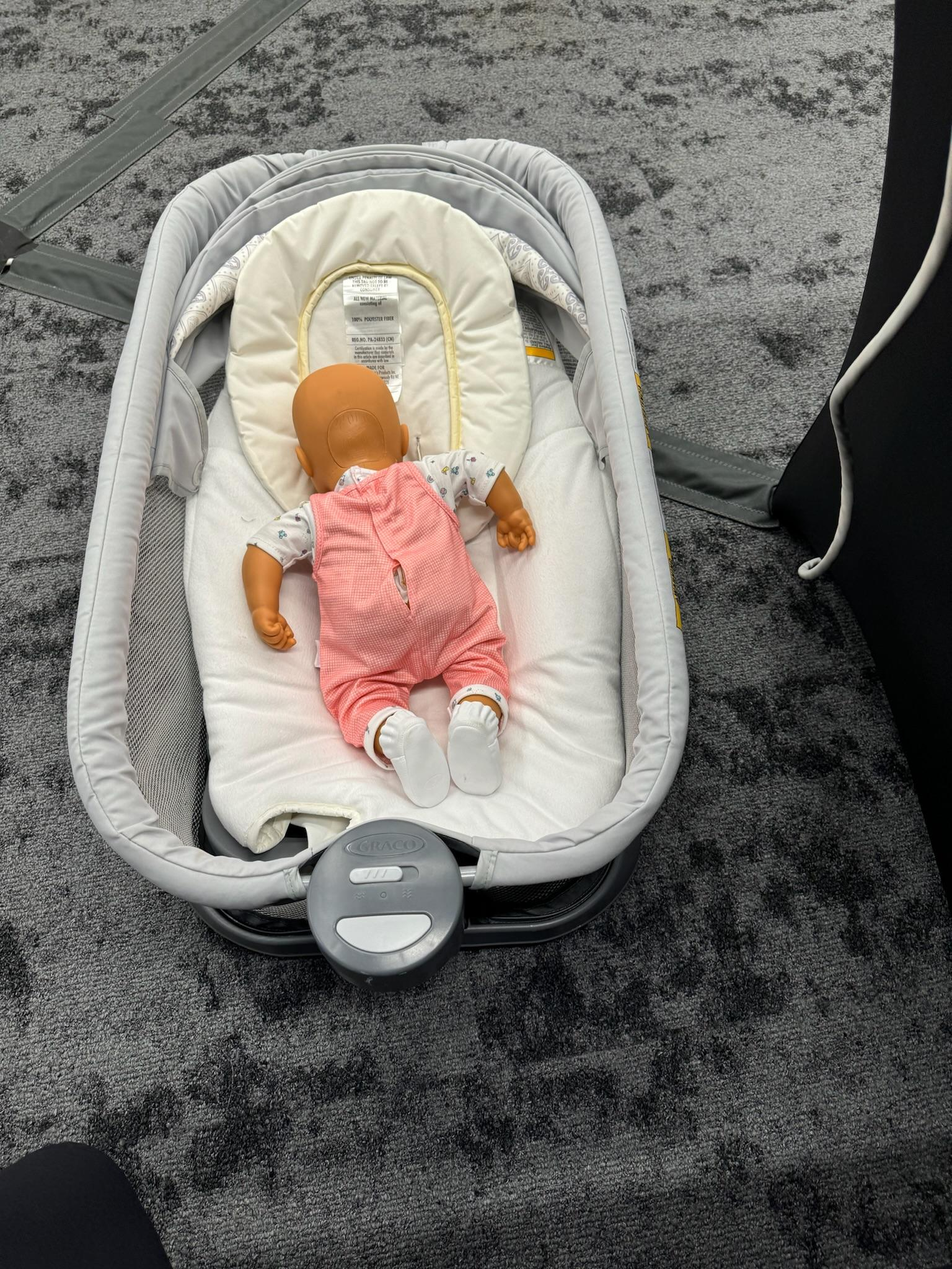baby: (245, 347, 554, 801)
